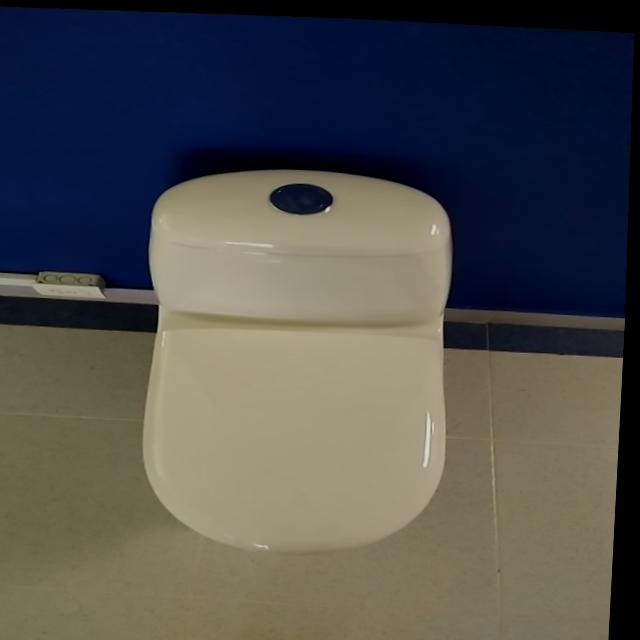toilet: (136, 155, 466, 558)
